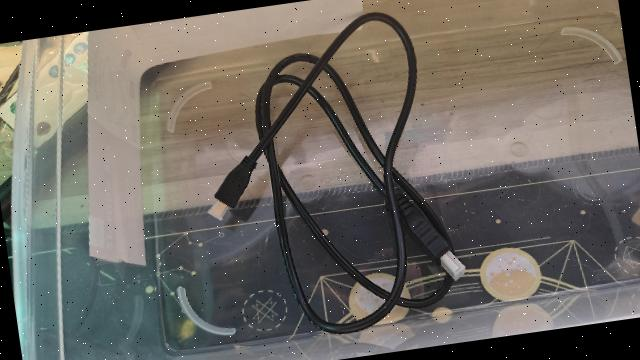hdmi_cable: (239, 4, 465, 341)
